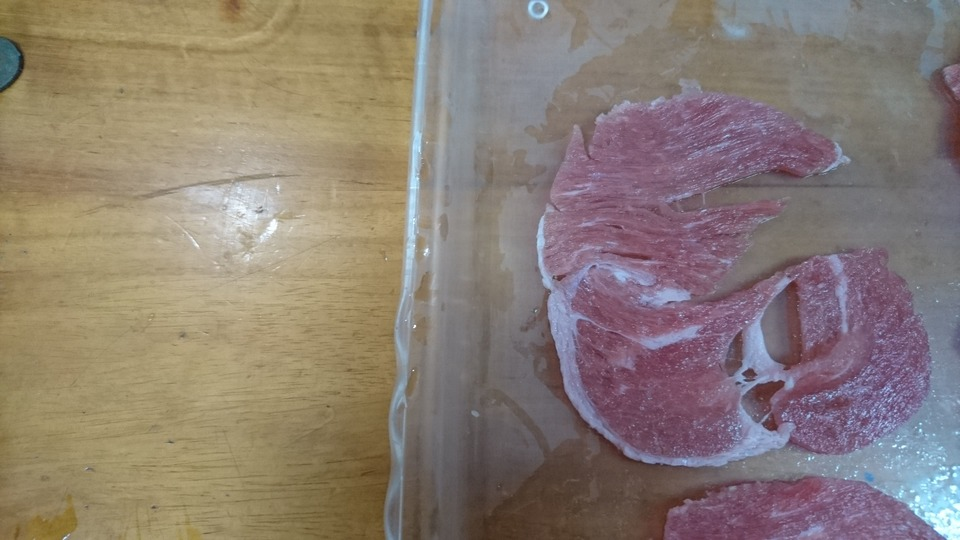restructured meat: (537, 74, 936, 464), (669, 485, 943, 535)
